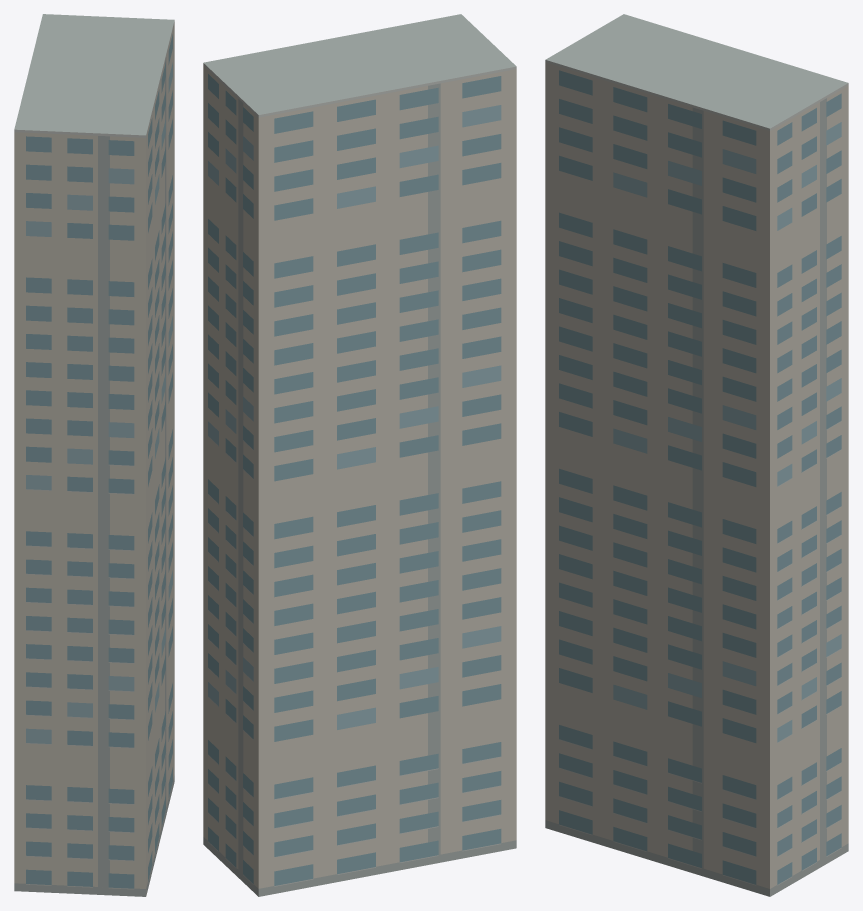
File: residential-978aa1bc-027e-4b4d-be2b-b838b15becd5.glb
3 views of the same model, side by side, from view 1: azimuth 30°, elevation 25°; view 2: azimuth 150°, elevation 25°; view 3: azimuth 270°, elevation 25° (orthographic). The views are drawn at different scales.
Visible parts, largest first — view 1: residential-978aa1bc-027e-4b4d-be2b-b838b15becd5.tmp; view 2: residential-978aa1bc-027e-4b4d-be2b-b838b15becd5.tmp; view 3: residential-978aa1bc-027e-4b4d-be2b-b838b15becd5.tmp.
Part boxes in pixels (<box>): residential-978aa1bc-027e-4b4d-be2b-b838b15becd5.tmp: <box>14,14,174,896</box>; residential-978aa1bc-027e-4b4d-be2b-b838b15becd5.tmp: <box>203,14,516,896</box>; residential-978aa1bc-027e-4b4d-be2b-b838b15becd5.tmp: <box>545,14,848,896</box>.
Size of the model in its own units: 24.02 by 75 by 26.84.
